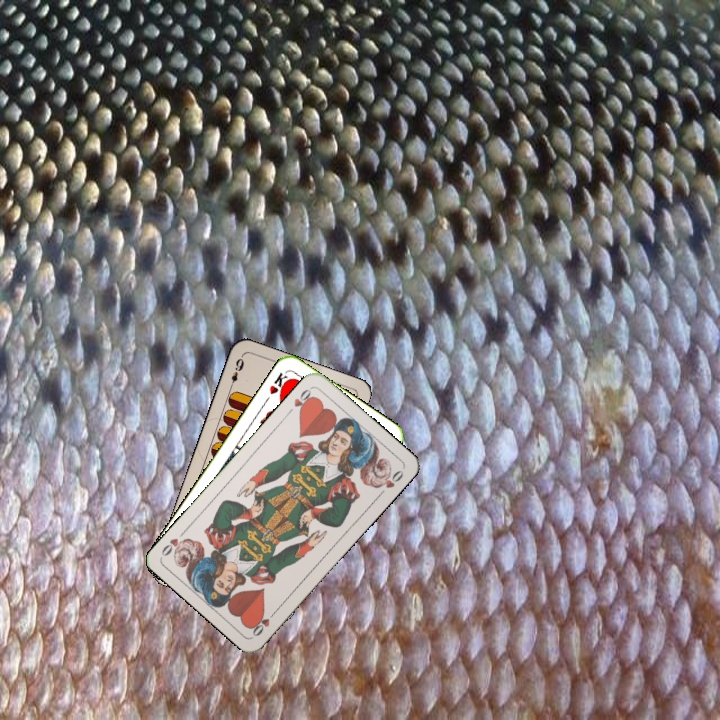E9: (225, 354, 246, 392)
HK: (265, 368, 293, 398)
HO: (283, 384, 316, 417), (248, 606, 280, 639)
